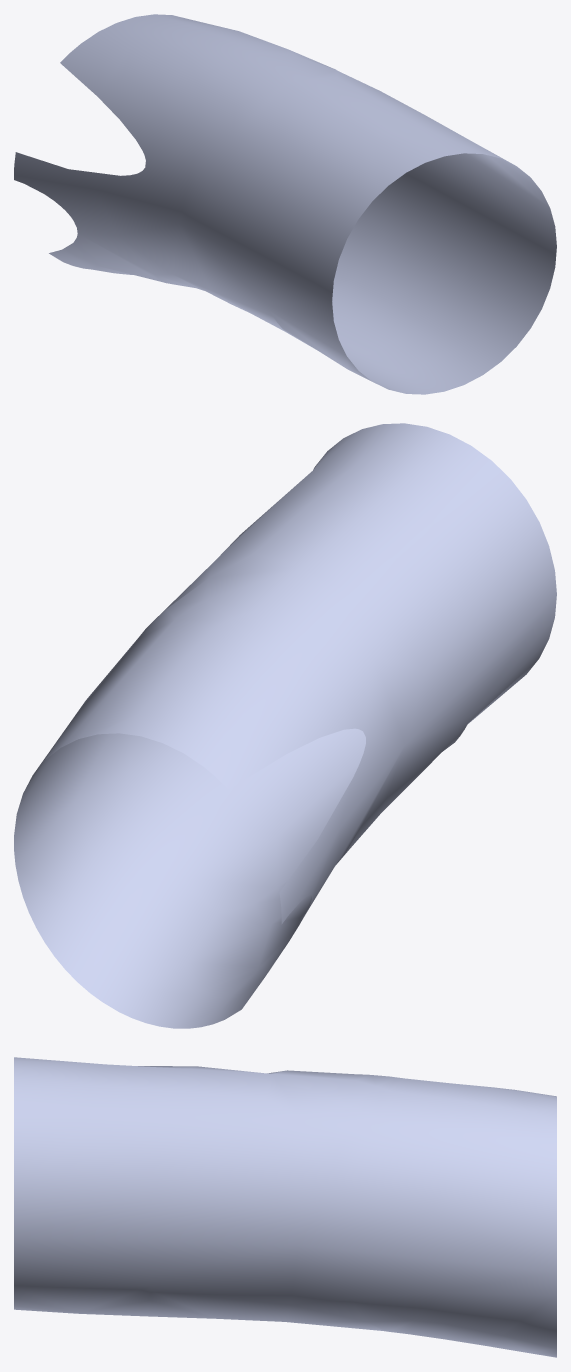
Rendered from ur3e_scaled_43.obj.
3 renders of one model, top to bottom at view 1: azimuth 30°, elevation 25°; view 2: azimuth 150°, elevation 25°; view 3: azimuth 270°, elevation 25°, orthographic. The views are drawn at different scales.
Bounding box in the file's own units: 0.00577 × 0.00633 × 0.0105.
